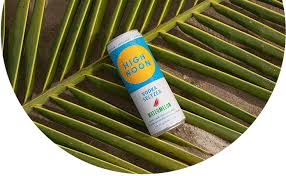can: (105, 25, 200, 143)
